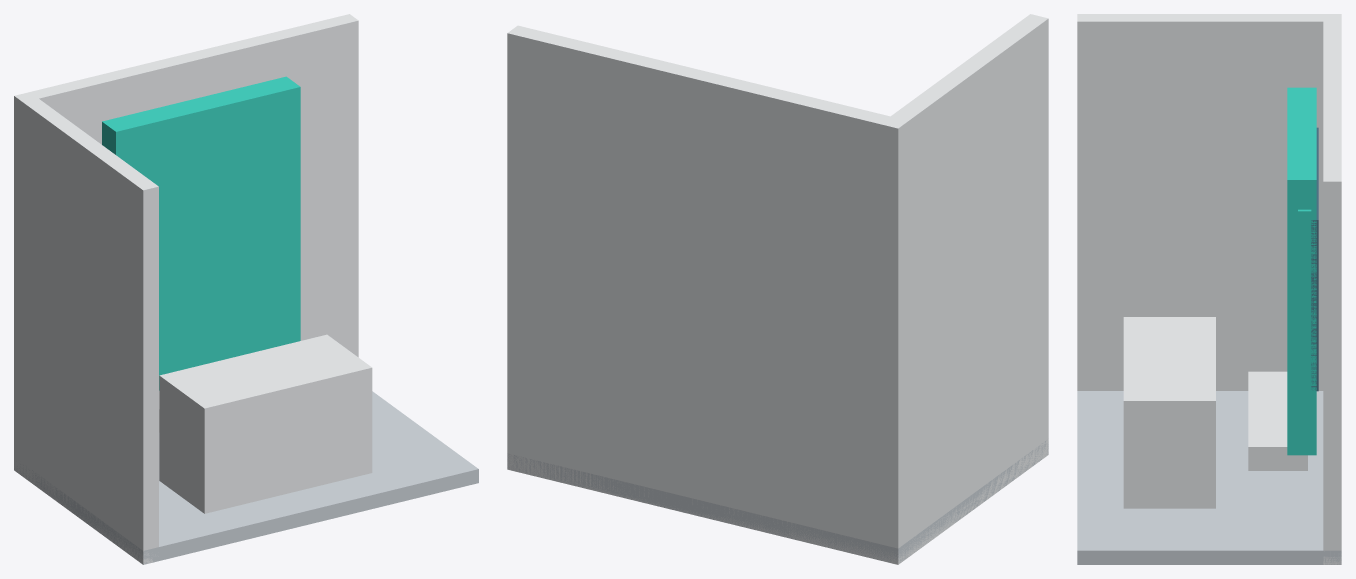
3 renders of one model, left to right at view 1: azimuth 30°, elevation 25°; view 2: azimuth 150°, elevation 25°; view 3: azimuth 270°, elevation 25°, orthographic. The views are drawn at different scales.
Parts seen in each view (by area): view 1: Exhibition Booth Concept; view 2: Exhibition Booth Concept; view 3: Exhibition Booth Concept.
Part boxes in pixels (bbox=[...]): Exhibition Booth Concept: bbox=[14, 14, 478, 564]; Exhibition Booth Concept: bbox=[507, 14, 1048, 564]; Exhibition Booth Concept: bbox=[1077, 14, 1341, 564].
Bounding box in the file's own units: 3 × 3.2 × 2.
